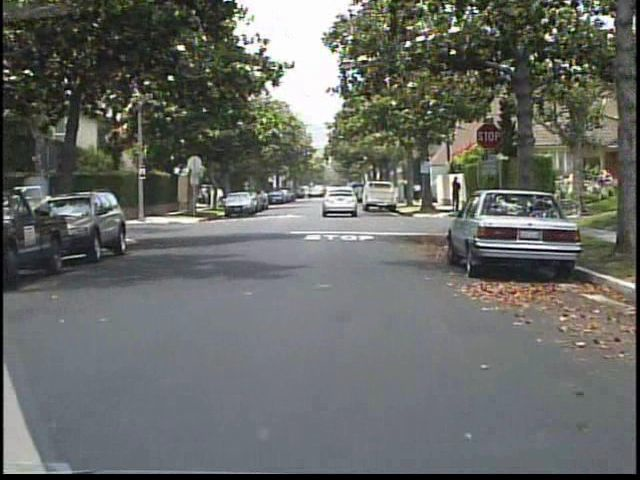person: (448, 176, 464, 209), (413, 178, 424, 205)
